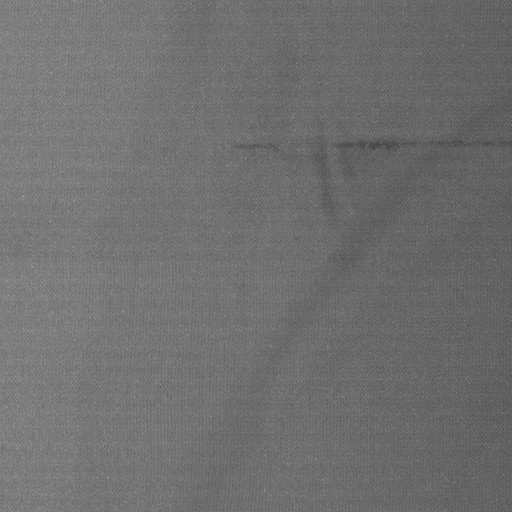defect: (345, 133, 512, 171), (306, 104, 342, 235), (233, 136, 286, 162)
